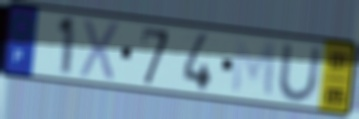1: (56, 16, 79, 77)
4: (181, 31, 214, 93)
7: (139, 25, 172, 87)
M: (229, 36, 278, 101)
U: (276, 42, 323, 105)
X: (77, 17, 123, 85)
